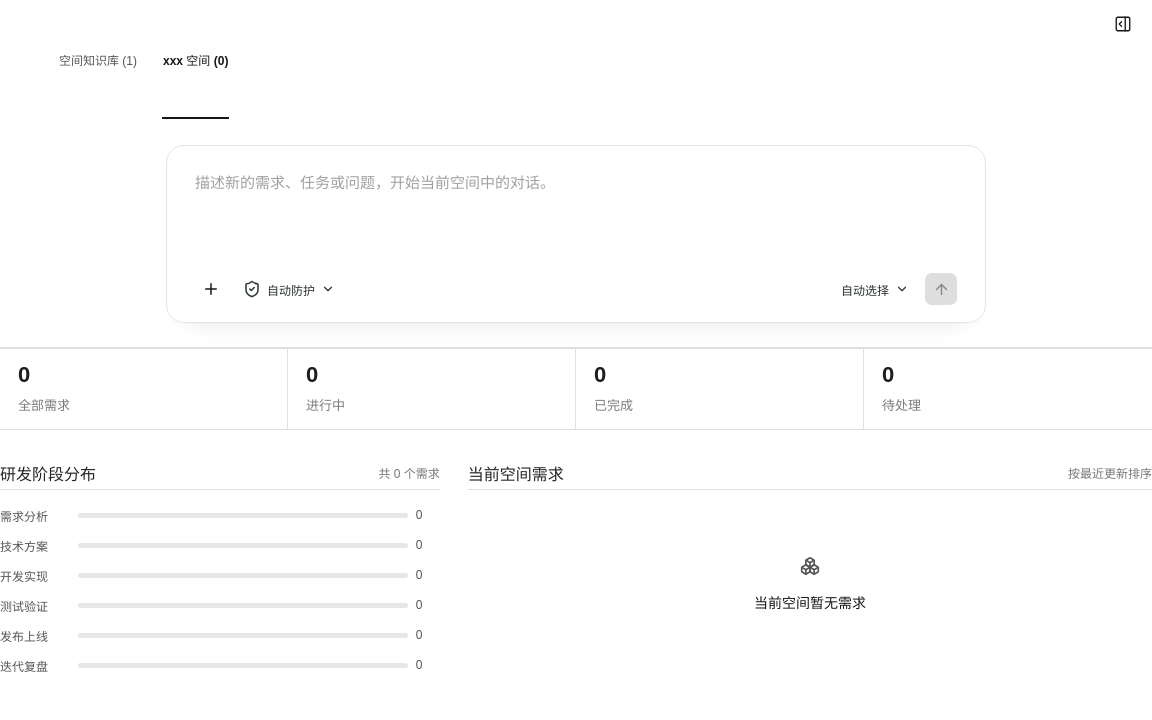
Scenario: SpaceDetailPage › opens online document details before opening it in the workbench
Click the tab "空间知识库 (1)" at (98, 60), box x1=58 y1=0 x2=138 y2=120
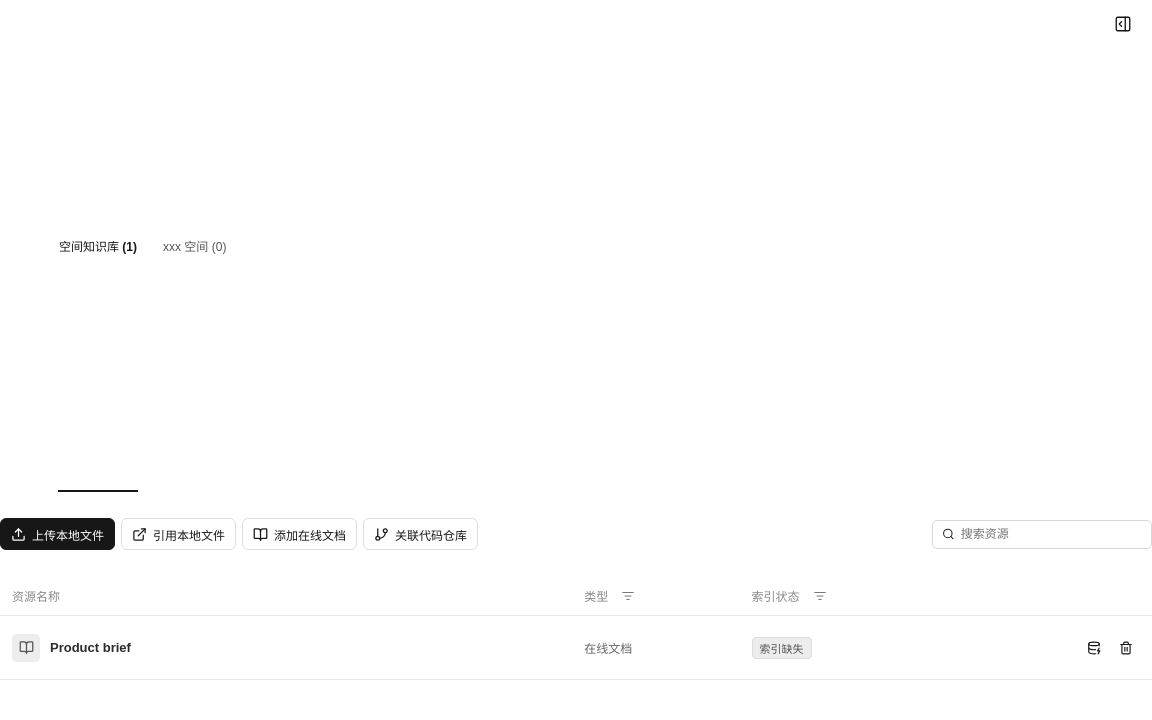
Click the button with aria-label "打开 Product brief" at (90, 648), box x1=12 y1=634 x2=574 y2=662
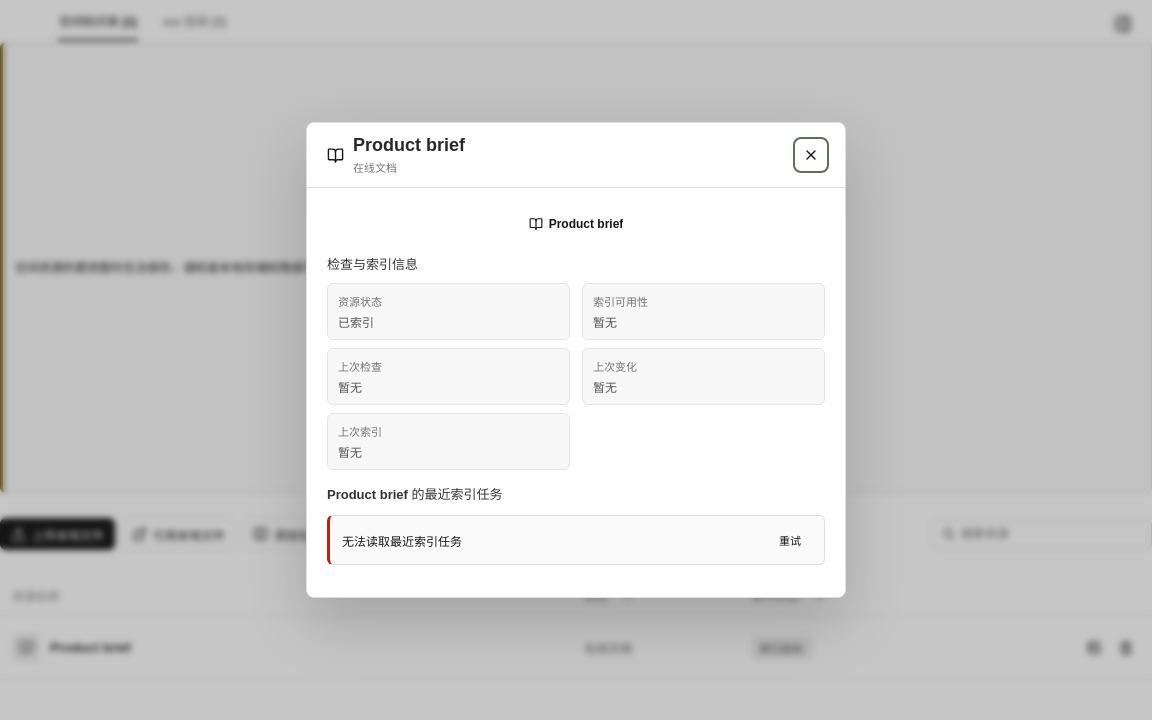
Expected: the heading "检查与索引信息" is shown, x1=327 y1=257 x2=418 y2=272
Click the button with aria-label "在工作区打开 Product brief" at (576, 224), box x1=327 y1=208 x2=825 y2=240
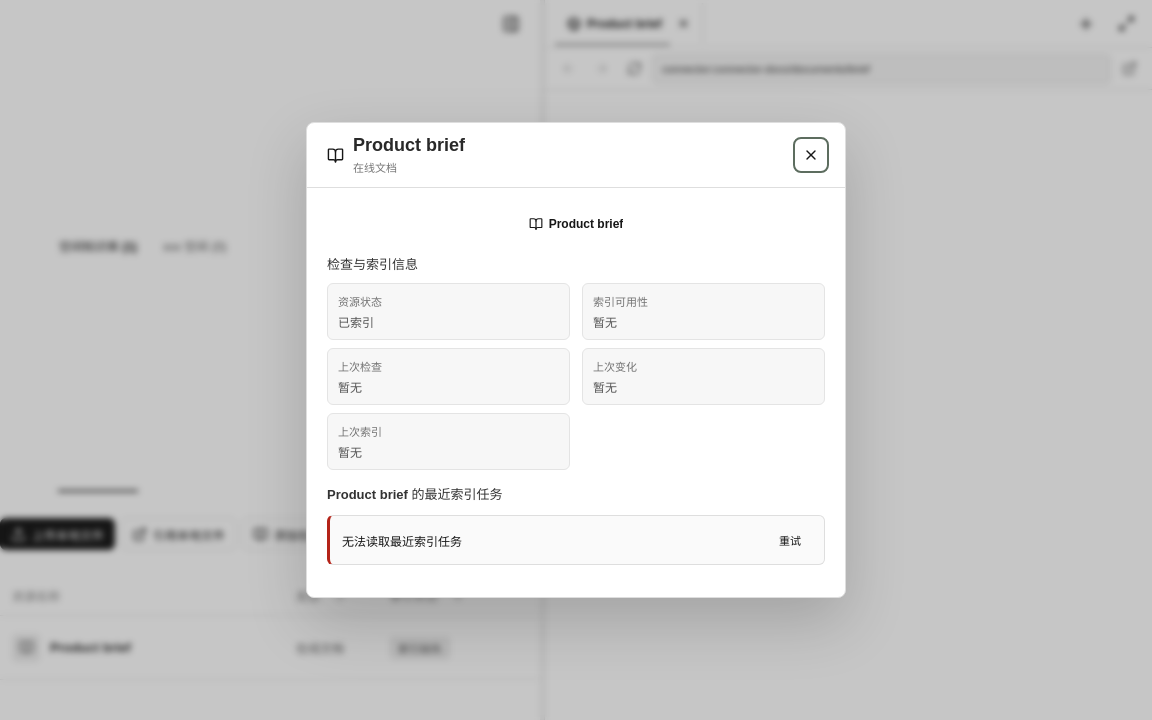
Expected: the element named "全局工作区" is shown, x1=544 y1=0 x2=1151 y2=719
